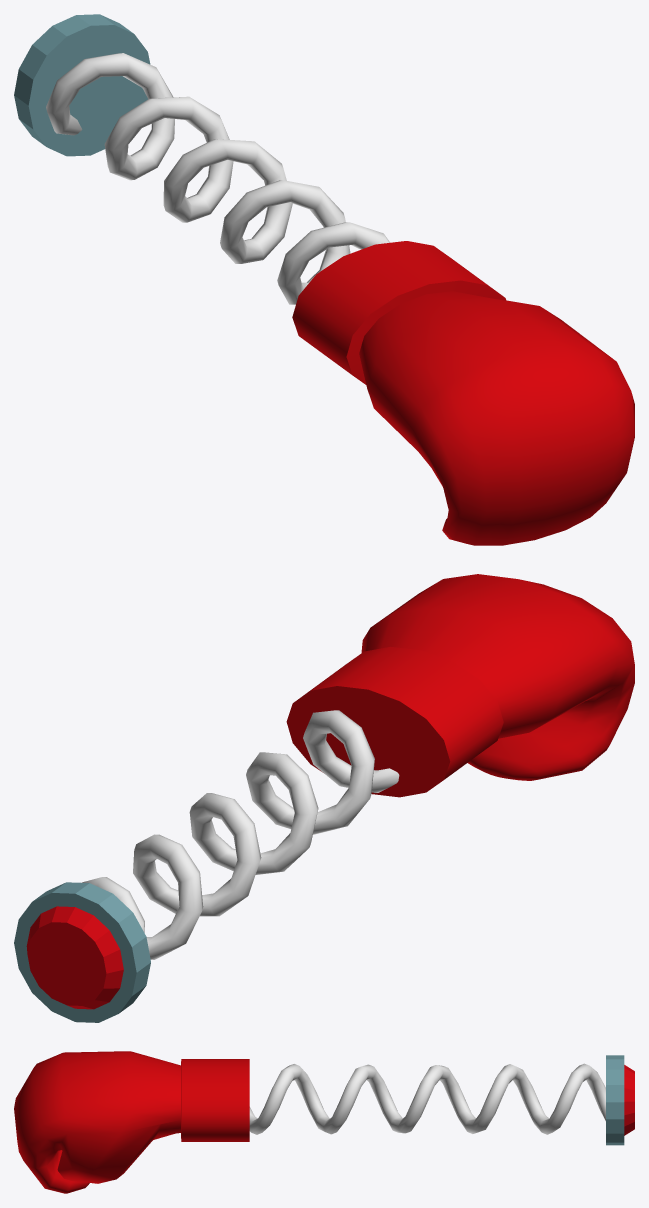
File: spring_glove.fbx
3 renders of one model, top to bottom at view 1: azimuth 30°, elevation 25°; view 2: azimuth 150°, elevation 25°; view 3: azimuth 270°, elevation 25°, orthographic. The views are drawn at different scales.
Visible parts, largest first — view 1: Boxing_Glove, Spring, Button; view 2: Boxing_Glove, Spring, Button; view 3: Boxing_Glove, Spring, Button.
Part boxes in pixels (x1,y1,x2,y2): Boxing_Glove: (292, 241, 634, 545); Spring: (46, 53, 389, 304); Button: (14, 14, 150, 156); Boxing_Glove: (286, 574, 634, 797); Spring: (81, 710, 399, 959); Button: (14, 882, 150, 1022); Boxing_Glove: (14, 1051, 249, 1193); Spring: (249, 1063, 605, 1134); Button: (606, 1055, 634, 1145).
Size of the model in its own units: 623 by 541 by 2459.
